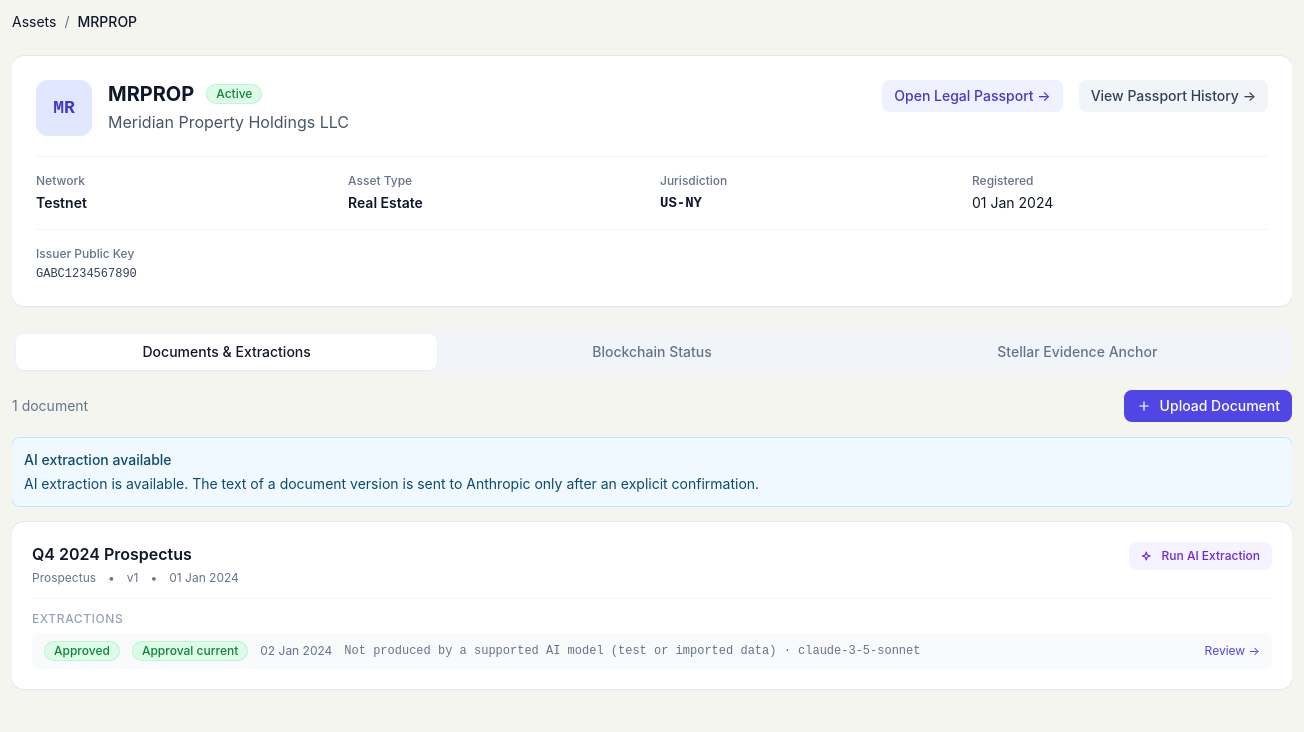
it: Explicit confirmation before external AI processing › shows a 503 refusal without asking for confirmation
Expected: the text "Q4 2024 Prospectus" is shown, 32,544 -> 192,564
Click the button "Run AI Extraction" at (1201, 556), box 1130,542 -> 1272,570
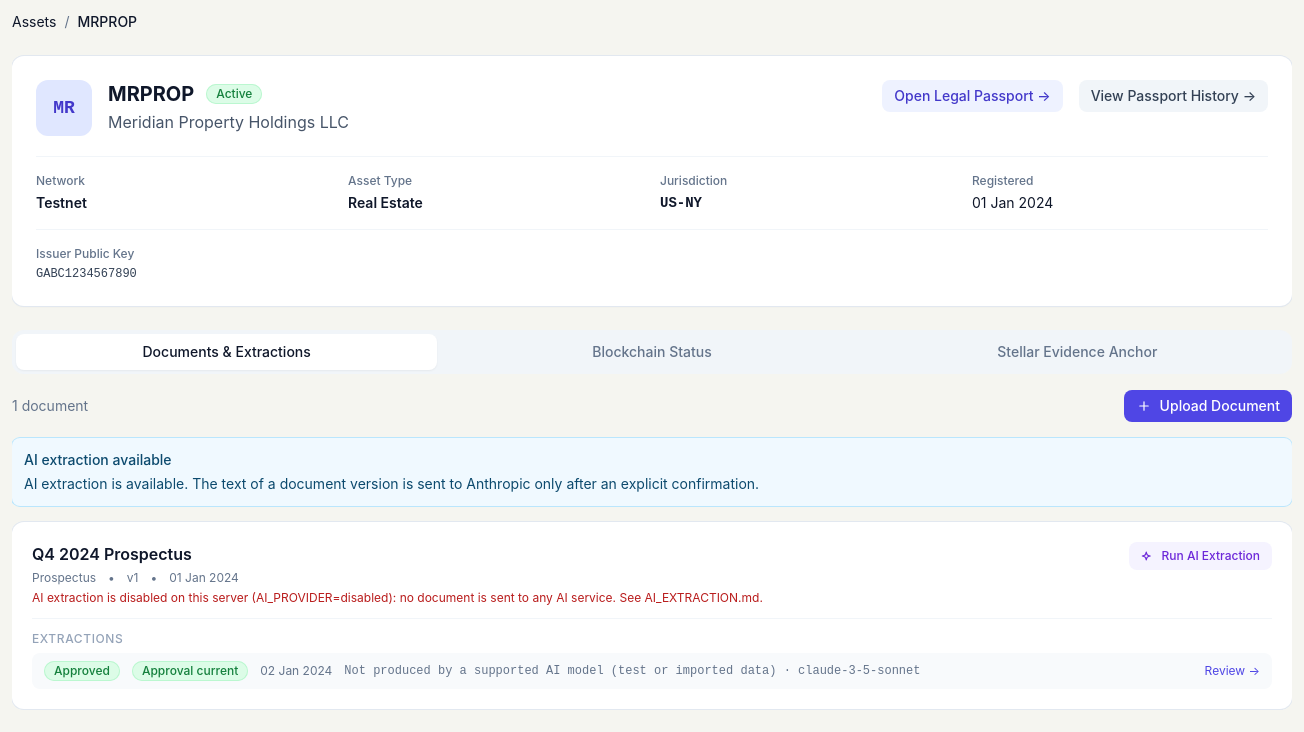
Now the message with test id "extraction-error" shows "AI extraction is disabled on this server (AI_PROVIDER=disabled): no document is sent to any AI service. See AI_EXTRACTION.md.", box 32,590 -> 763,605
